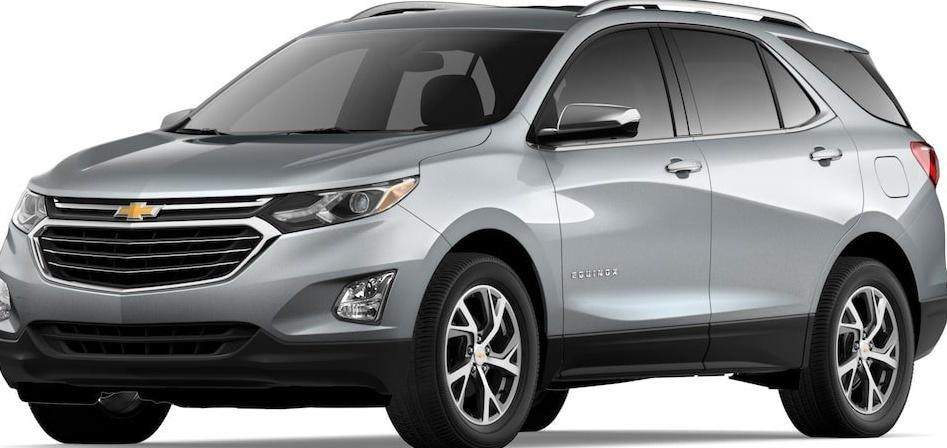Crossovers: (0, 0, 947, 445)
